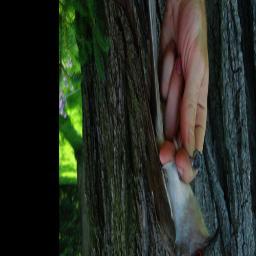Cuckoo: (135, 0, 222, 256)
